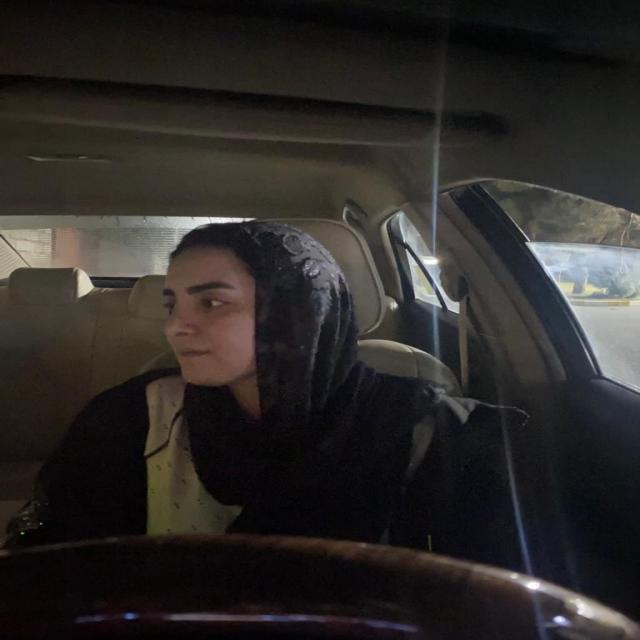LeftRight: (150, 219, 356, 399)
